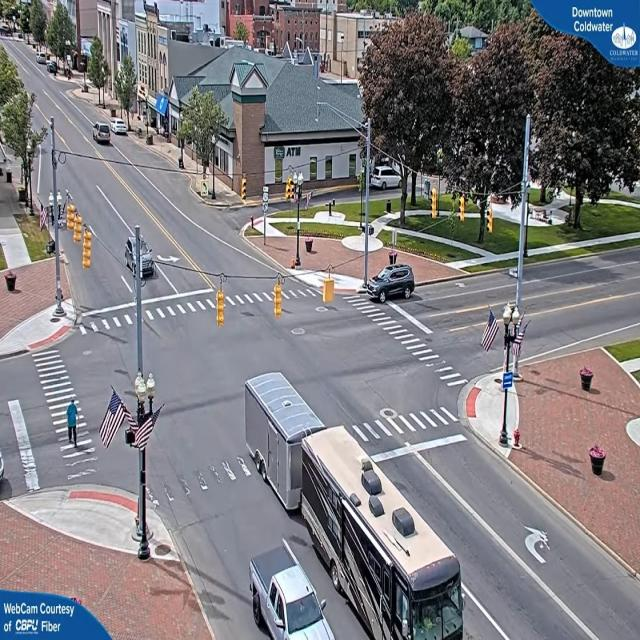car: (368, 266, 417, 302), (123, 232, 159, 281), (93, 123, 112, 145), (112, 120, 129, 138)
truck: (378, 532, 465, 640)
